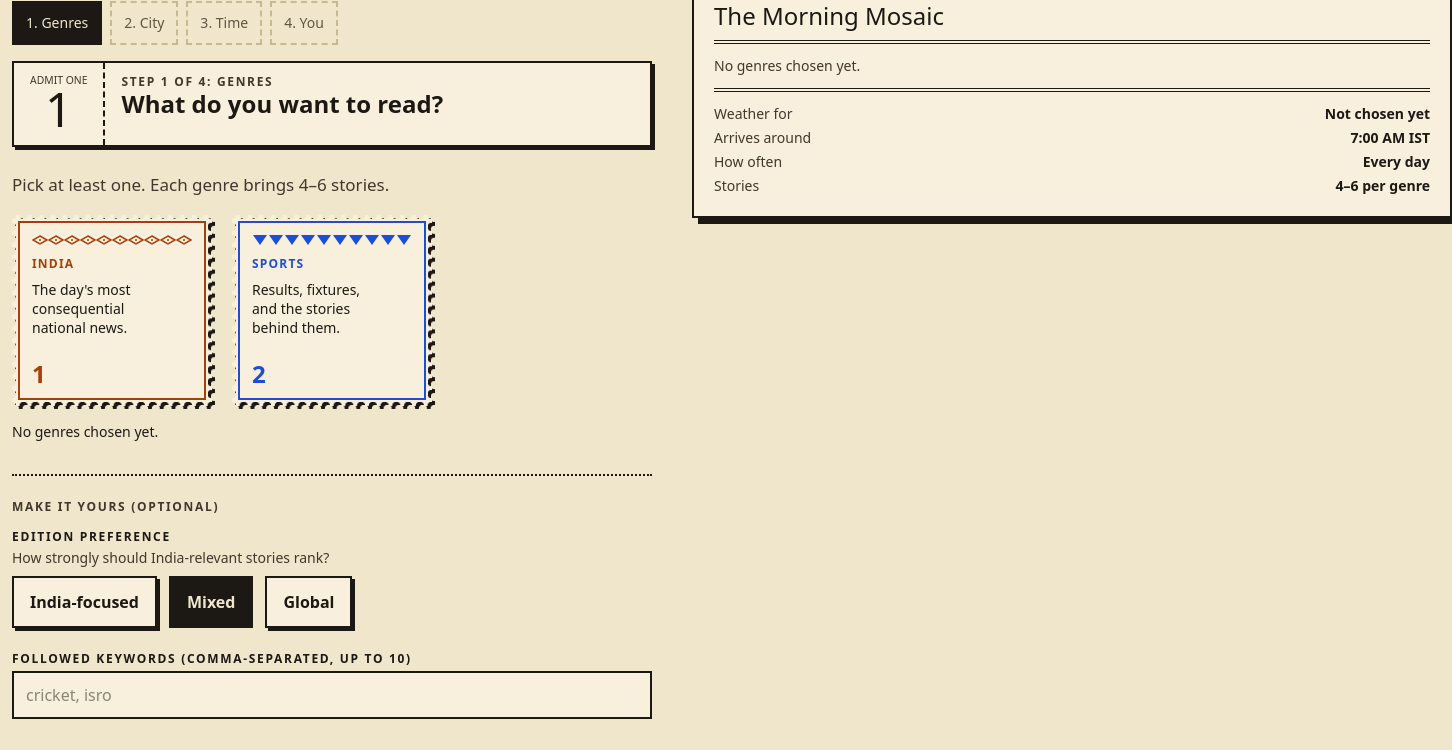
it: SubscribePage › steps › moves focus to the new step heading and keeps entries when going back
Click the checkbox labelled "1 India The day's most consequential national news." at (112, 311), box [12, 216, 212, 406]
(page scrolled)
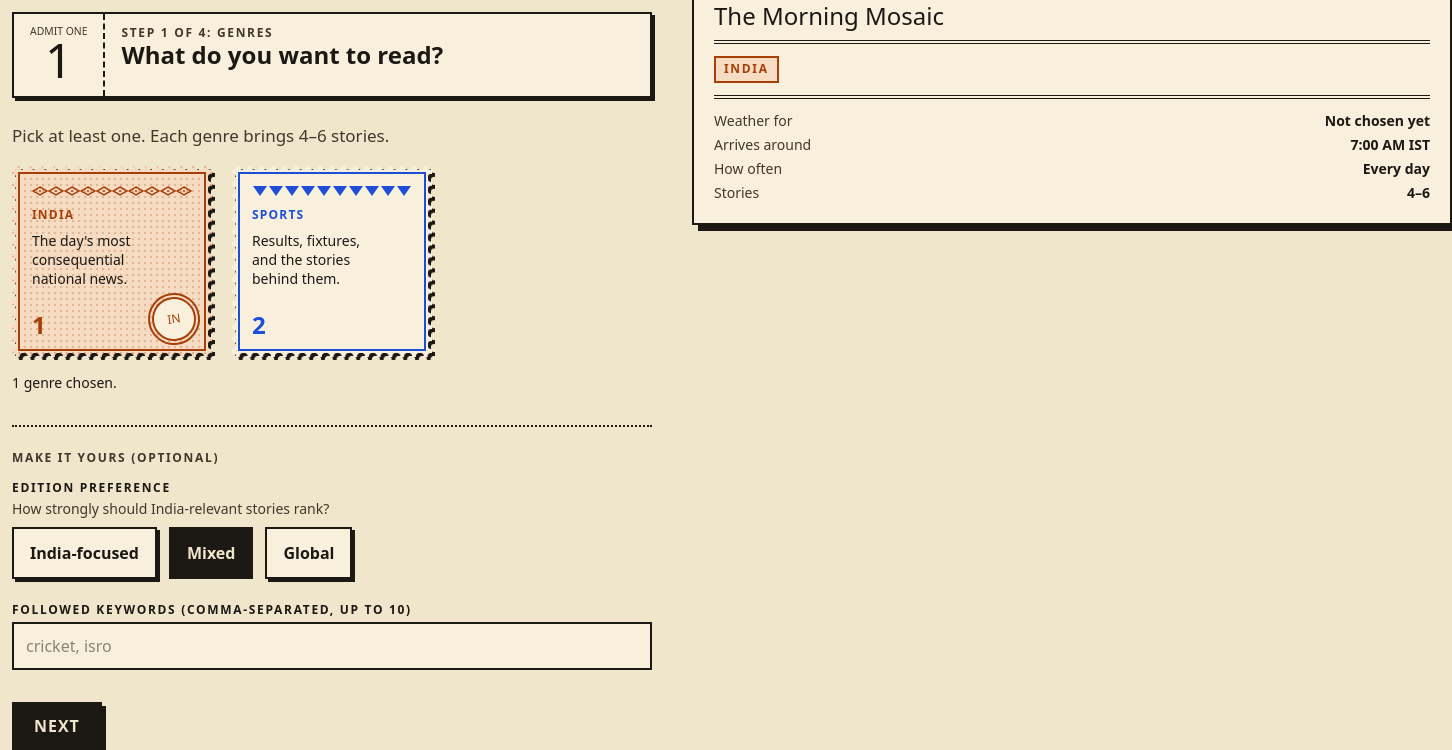
Click the button "Next" at (57, 726), box [12, 702, 102, 749]
(page scrolled)
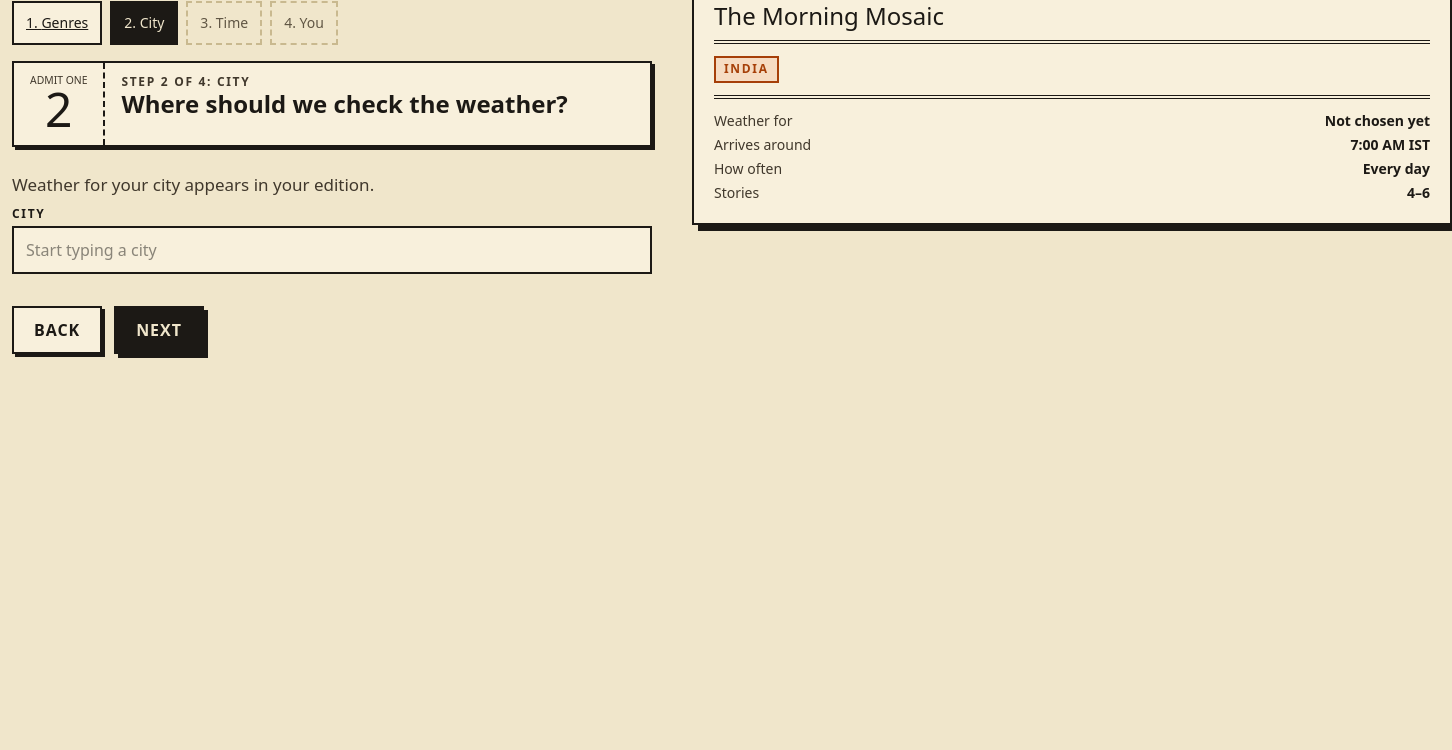
Click the button "Back" at (57, 330), box [12, 306, 102, 354]
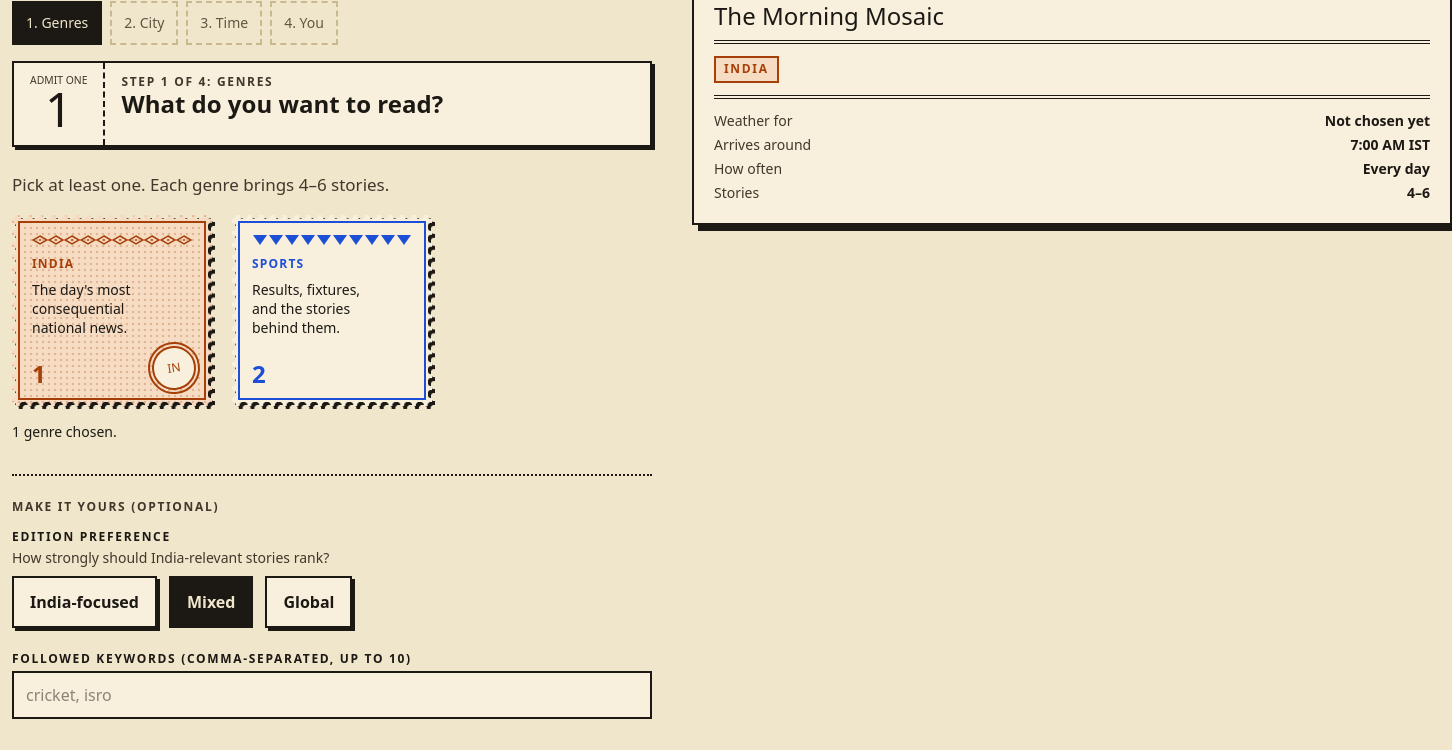
Expected: the checkbox labelled "1 India The day's most consequential national news. IN" is checked, [12, 216, 212, 406]
